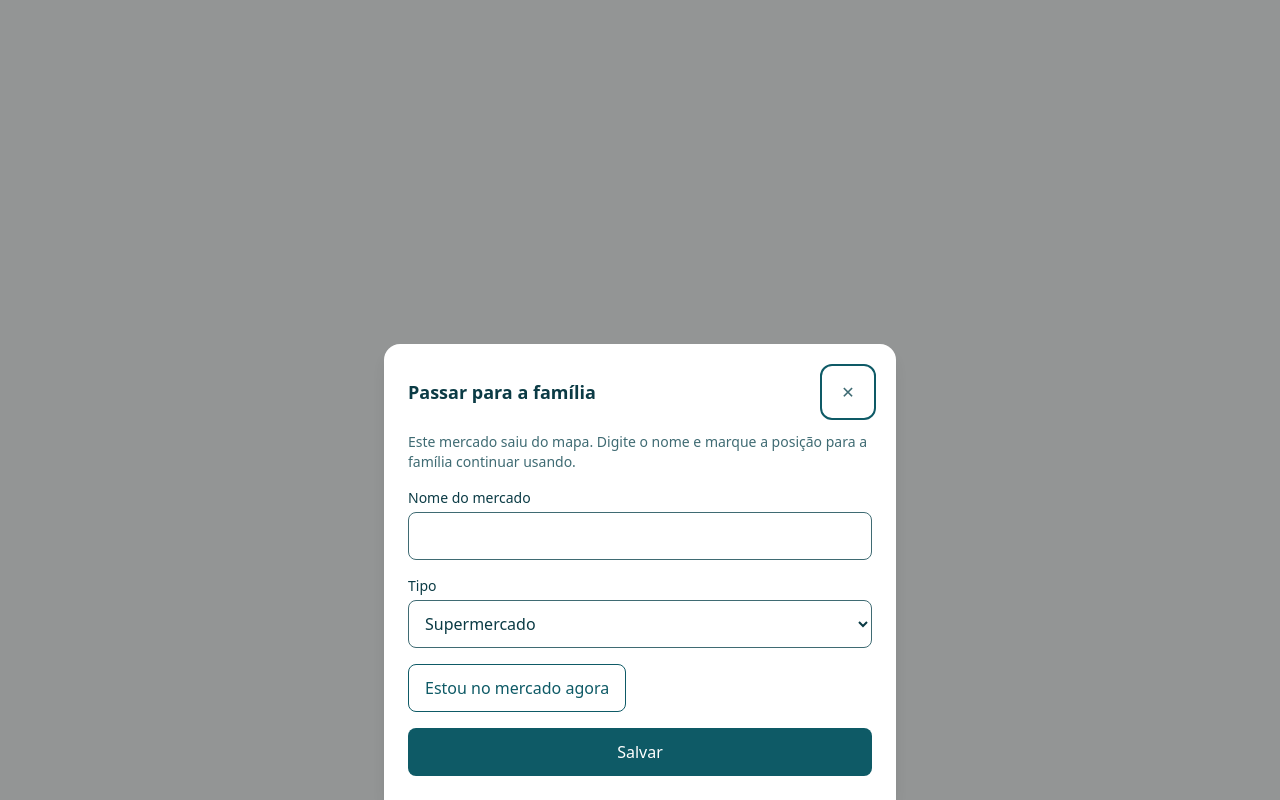
ConvertMarketSheet › needsAPosition
Type "Mercado Novo" into the field labelled "Nome do mercado" at (640, 536), box [408,512,872,560]
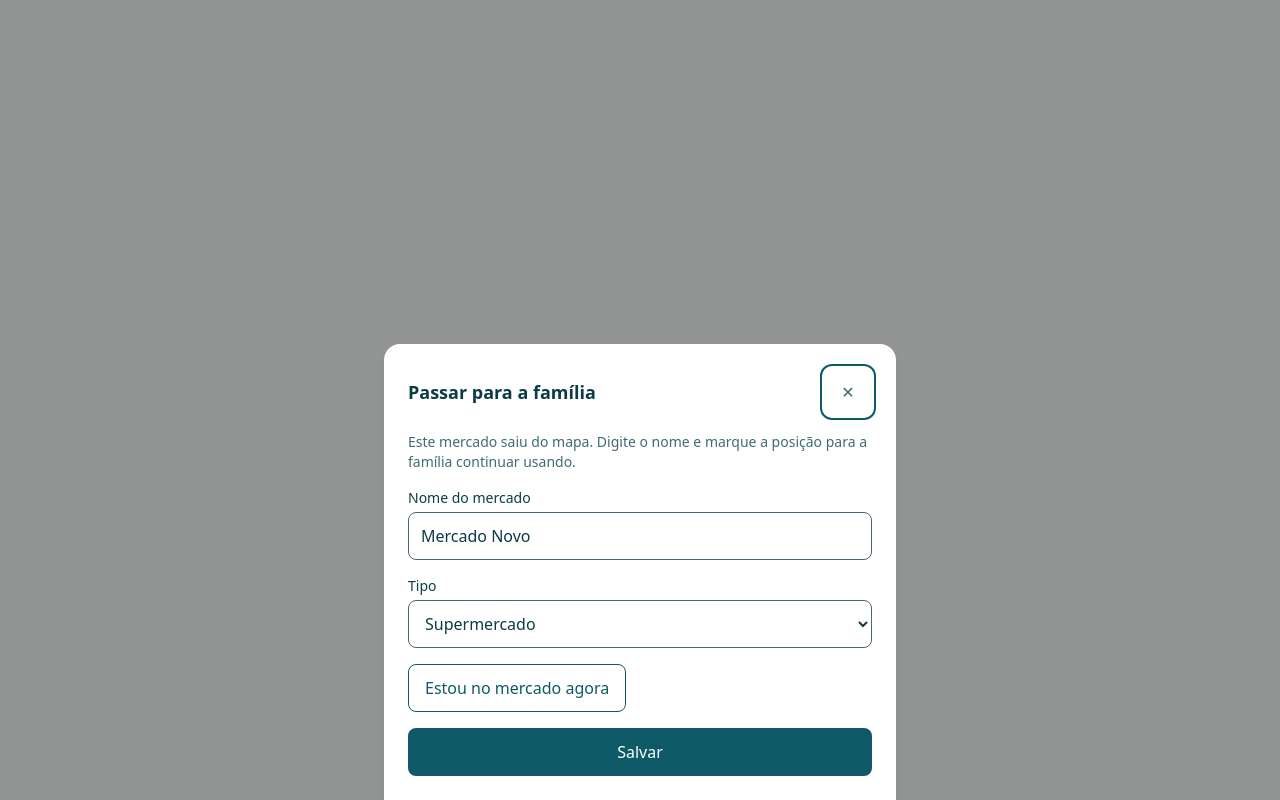
Click the button "Salvar" at (640, 752), box [408,728,872,776]
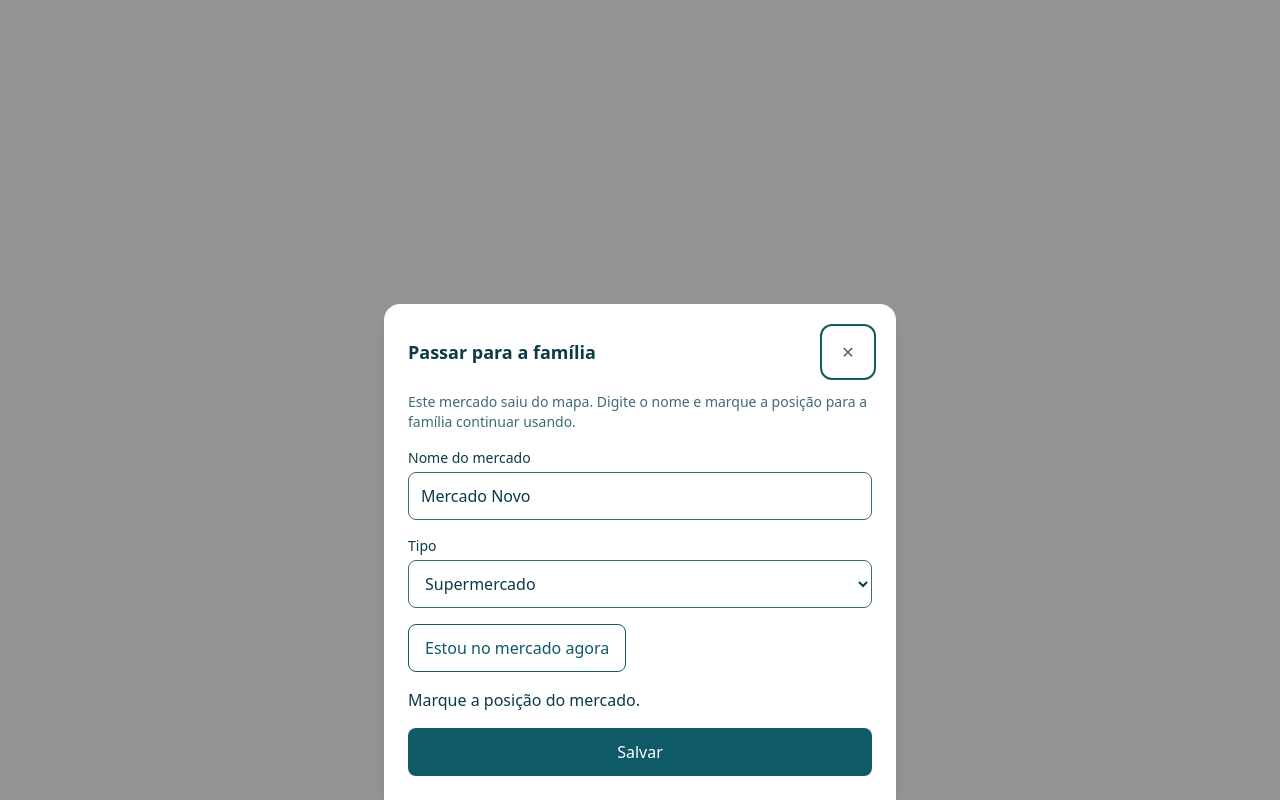
Now the text "Marque a posição do mercado." is shown, box [408,689,640,711]
